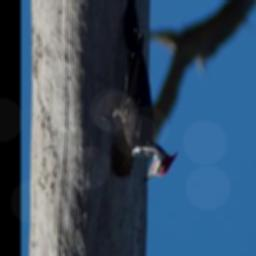Woodpecker: (98, 0, 178, 184)
